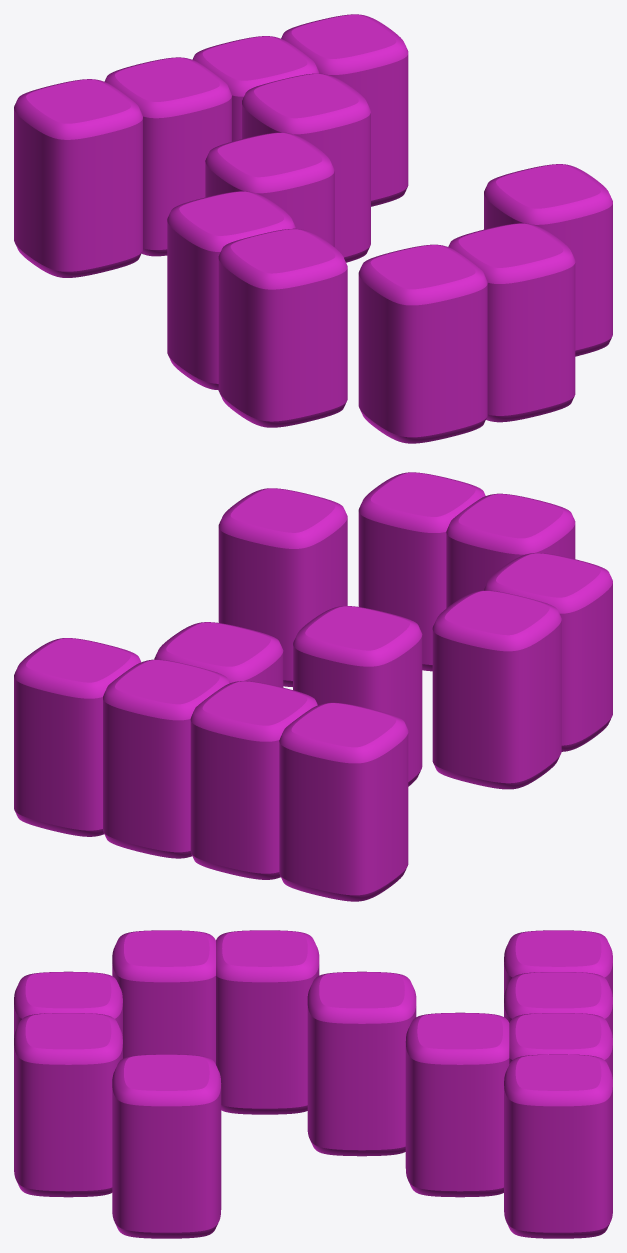
Rendered from Number_2.fbx.
3 views of the same model, one above another, from view 1: azimuth 30°, elevation 25°; view 2: azimuth 150°, elevation 25°; view 3: azimuth 270°, elevation 25° (orthographic). The views are drawn at different scales.
Parts seen in each view (by area): view 1: Number_2; view 2: Number_2; view 3: Number_2.
Part boxes in pixels (bbox=[...]): Number_2: bbox=[14, 14, 612, 443]; Number_2: bbox=[14, 472, 612, 901]; Number_2: bbox=[14, 930, 612, 1238].
Bounding box in the file's own units: 0.3465 × 0.14 × 0.5157.
